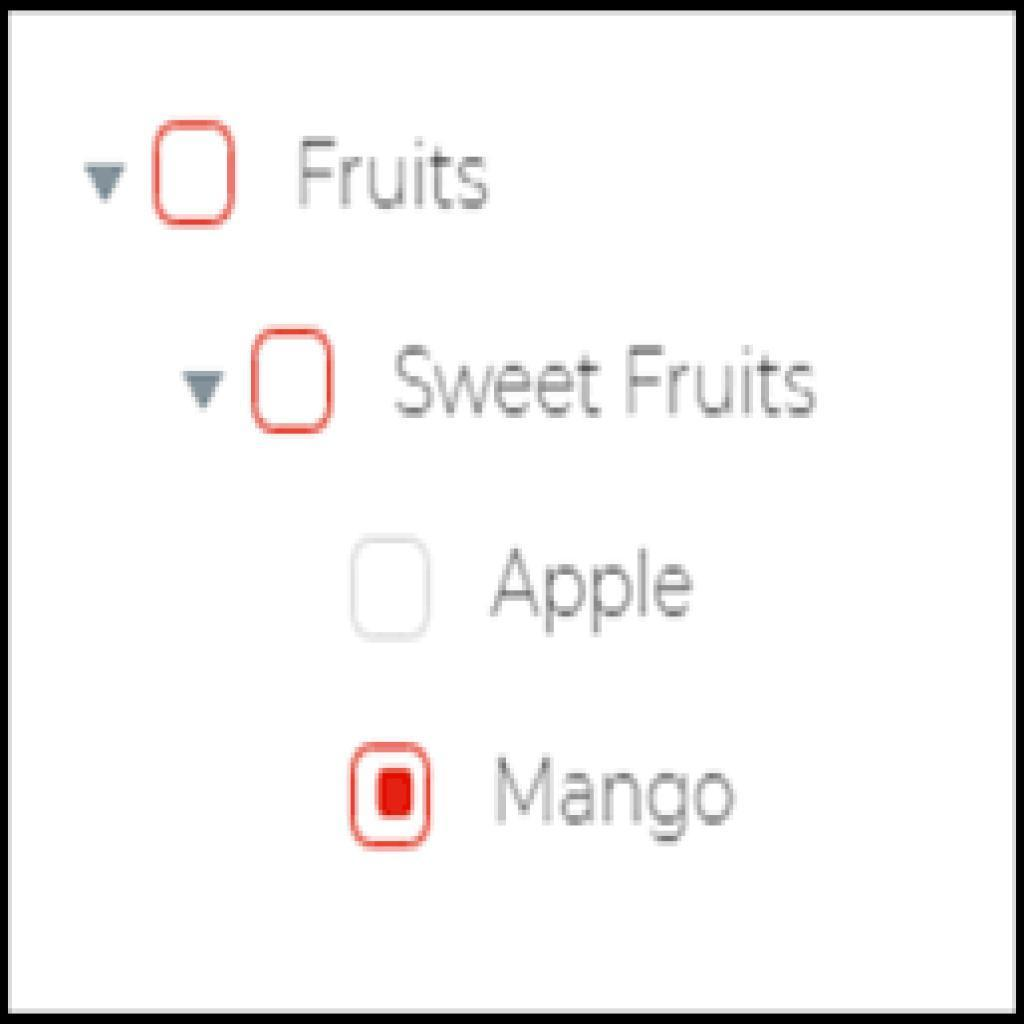checkbox: (153, 120, 238, 228), (250, 328, 334, 437), (351, 741, 433, 851), (351, 538, 433, 641)
label: (392, 337, 826, 428), (494, 751, 736, 847), (491, 545, 697, 641), (288, 127, 495, 218)
